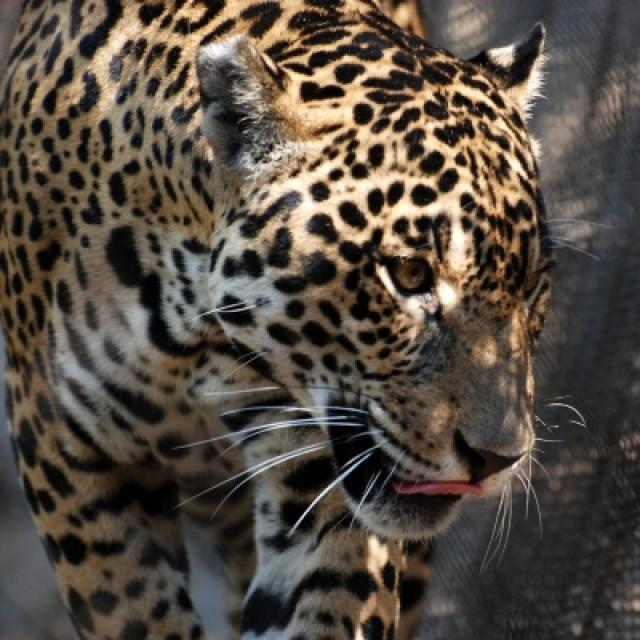Jaguar: (2, 0, 555, 638)
